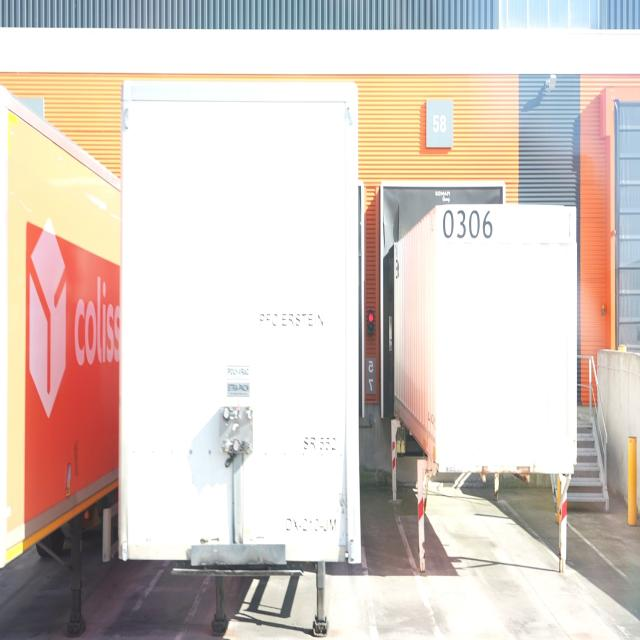Code: (439, 203, 494, 246)
